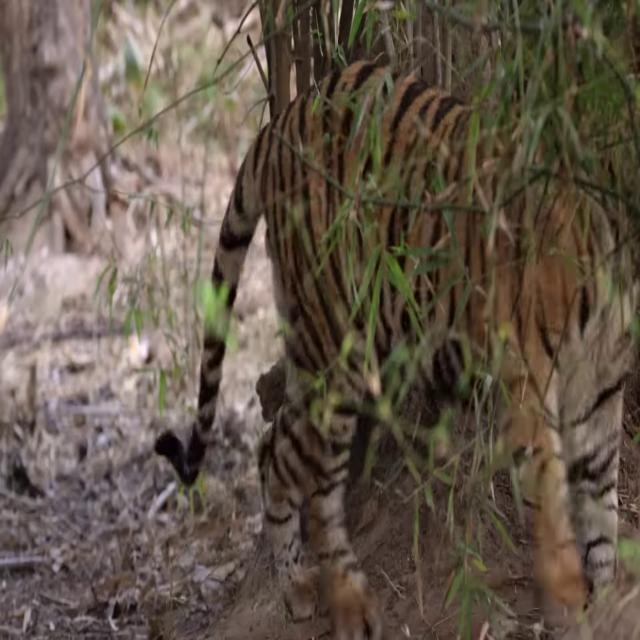tiger: (156, 61, 639, 637)
